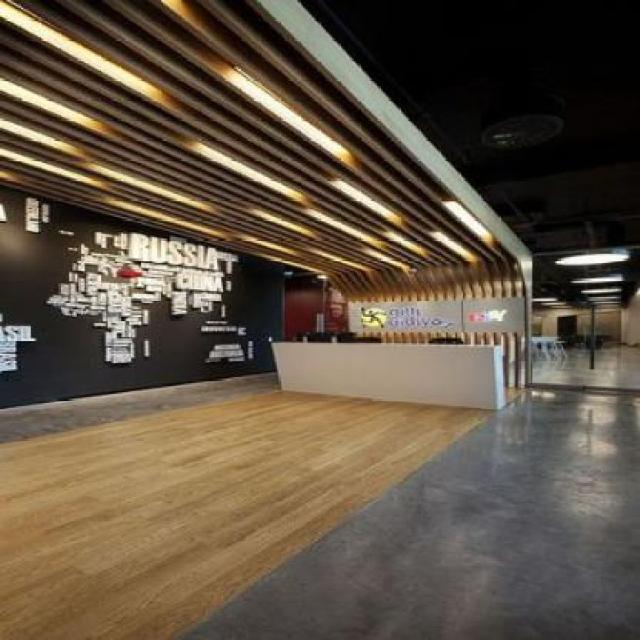frontdesk: (266, 329, 536, 423)
